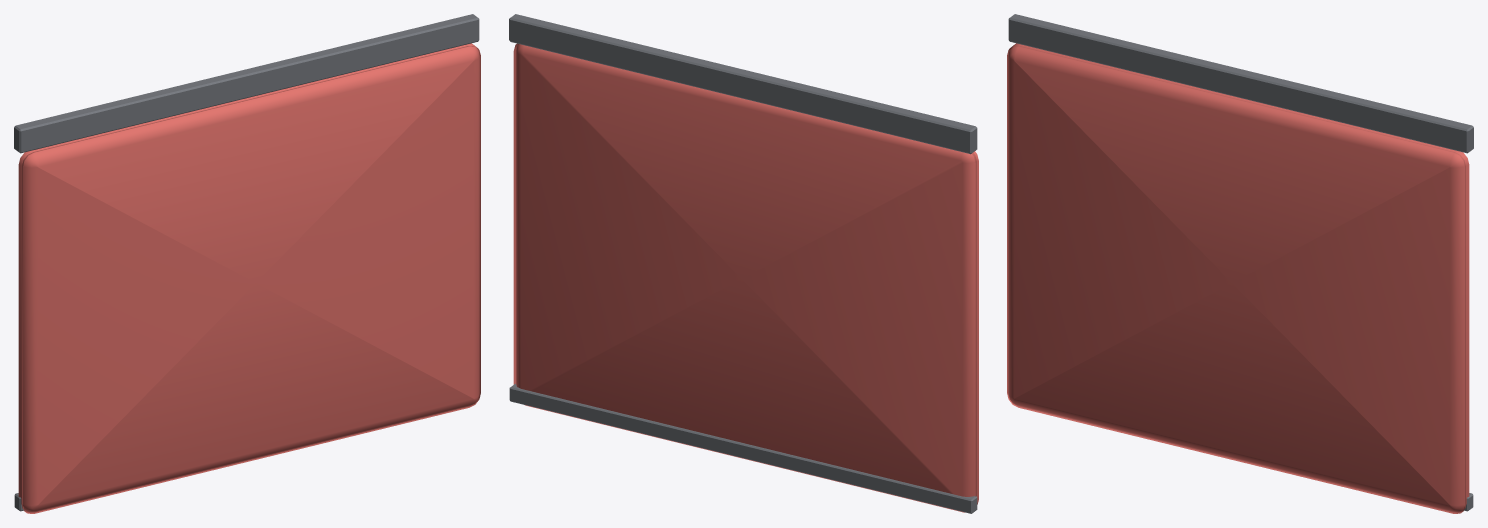
File: wall_pad_red.glb
The picture shows the model from 3 angles, left to right: view 1: azimuth 30°, elevation 25°; view 2: azimuth 150°, elevation 25°; view 3: azimuth 330°, elevation 25°; orthographic projection.
Parts seen in each view (by area): view 1: wall-padding-module-red; view 2: wall-padding-module-red; view 3: wall-padding-module-red.
Part boxes in pixels (x1,y1,x2,y2): wall-padding-module-red: (14,14,480,513); wall-padding-module-red: (509,14,978,513); wall-padding-module-red: (1007,14,1473,513).
Bounding box in the file's own units: 2 × 1.6 × 0.0934.
